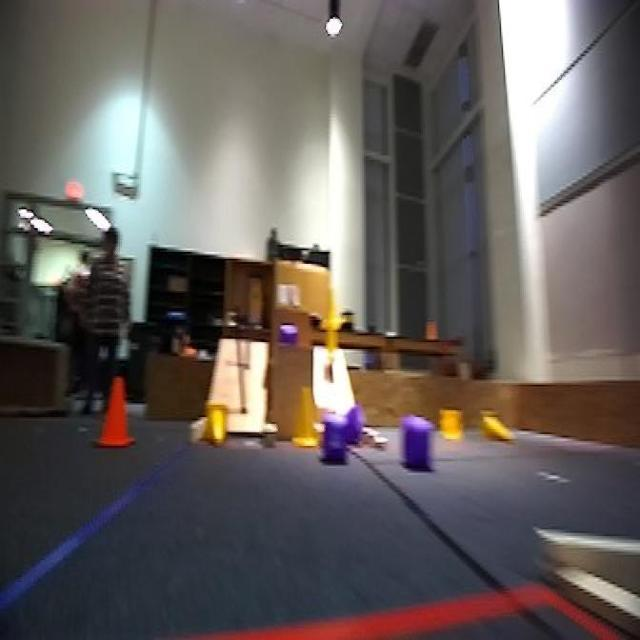frc_cone: (292, 383, 327, 453), (201, 403, 230, 448), (477, 410, 512, 443), (322, 315, 345, 364), (437, 404, 463, 444), (327, 282, 342, 334)
frc_cube: (400, 424, 432, 468), (316, 414, 347, 456), (345, 403, 360, 441), (278, 328, 298, 346)
